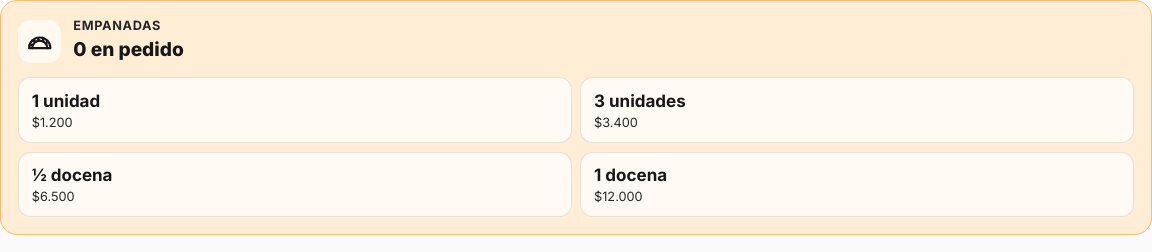
Test: subdivisión de cada grupo en el tablero (US-5 CA-1) › tocar una presentación abre la línea y el contador suma las unidades del pedido
Click the button "½ docena $6.500" at (72, 175), box [18,152,572,217]
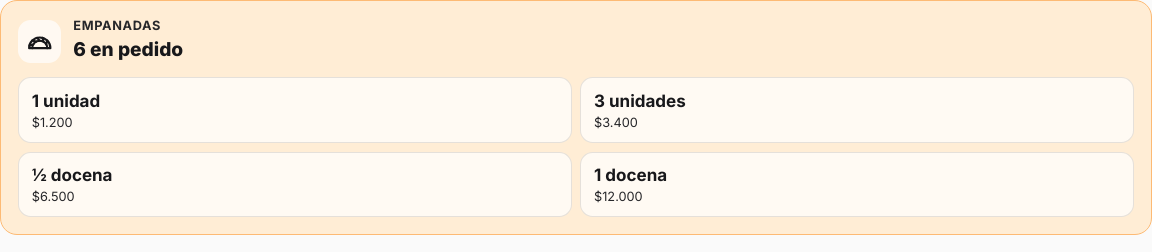
Expected: the text "6 en pedido" is shown, [73,35,183,65]
